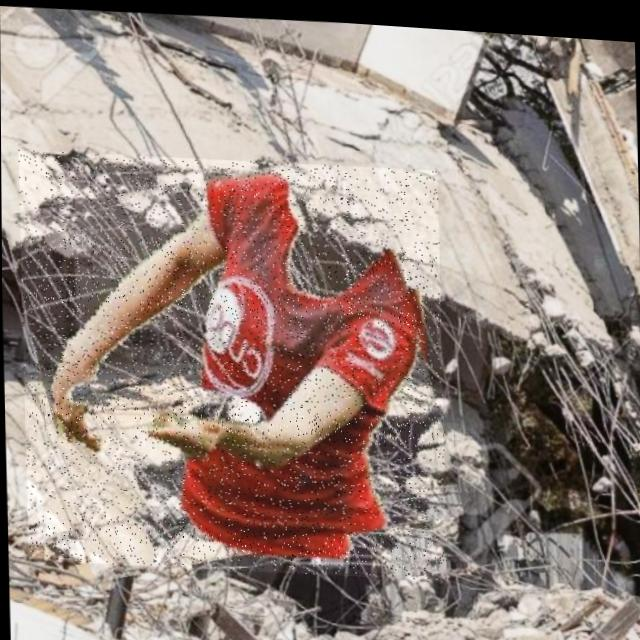Person in Rubble: (18, 142, 446, 581)
